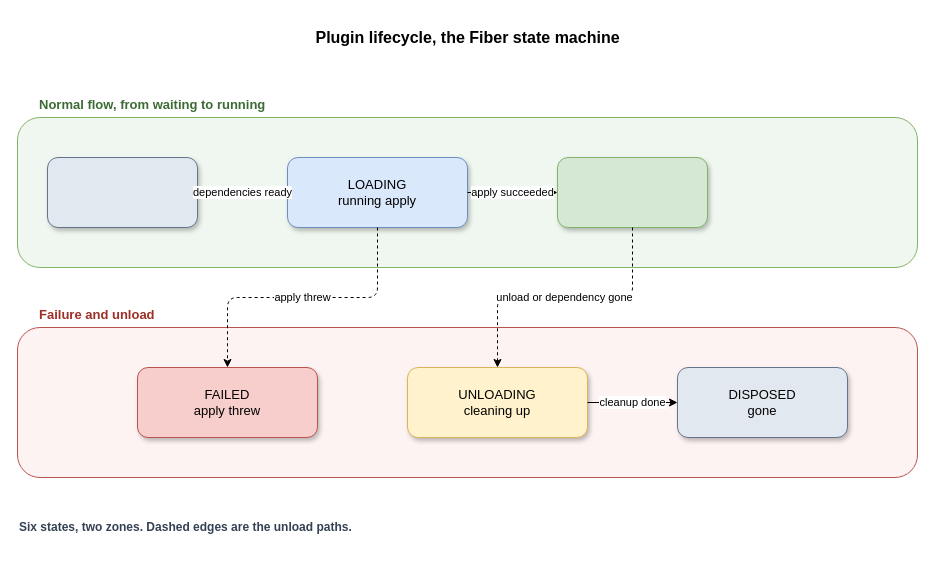
Image size: 935x564. Some labels were removed from this diagram. The shapes that lost their labels are listed below. From the top down, each one's centre as x and y in pixels, then its label:
At pixel 123 193: "PENDING waiting on dependencies".
At pixel 633 193: "ACTIVE running".
